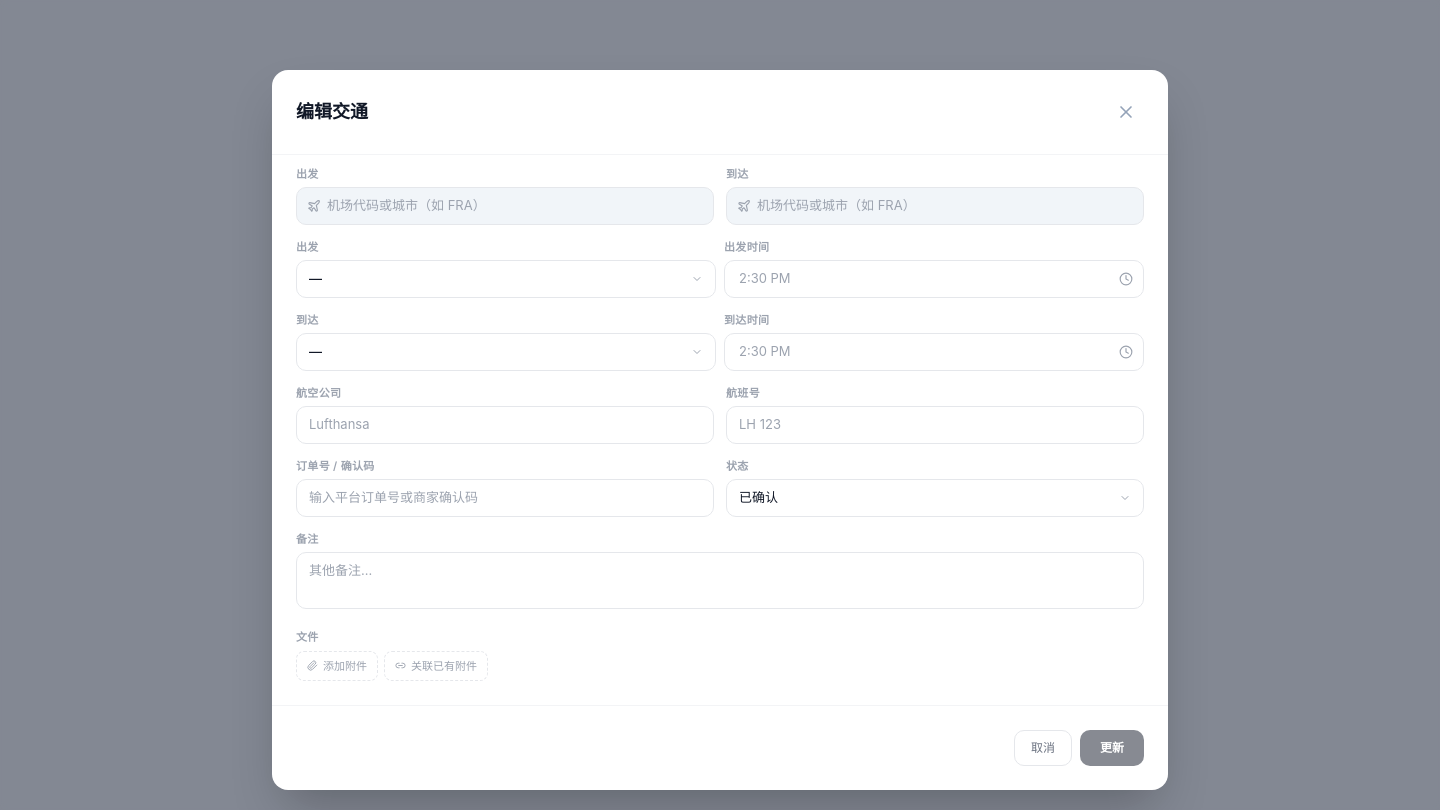
it: TransportModal › FE-PLANNER-TRANSMODAL-020: clicking "link existing file" shows file picker dropdown
(page scrolled)
Click the button "关联已有附件". click: (436, 666)
box: [384,650,488,681]
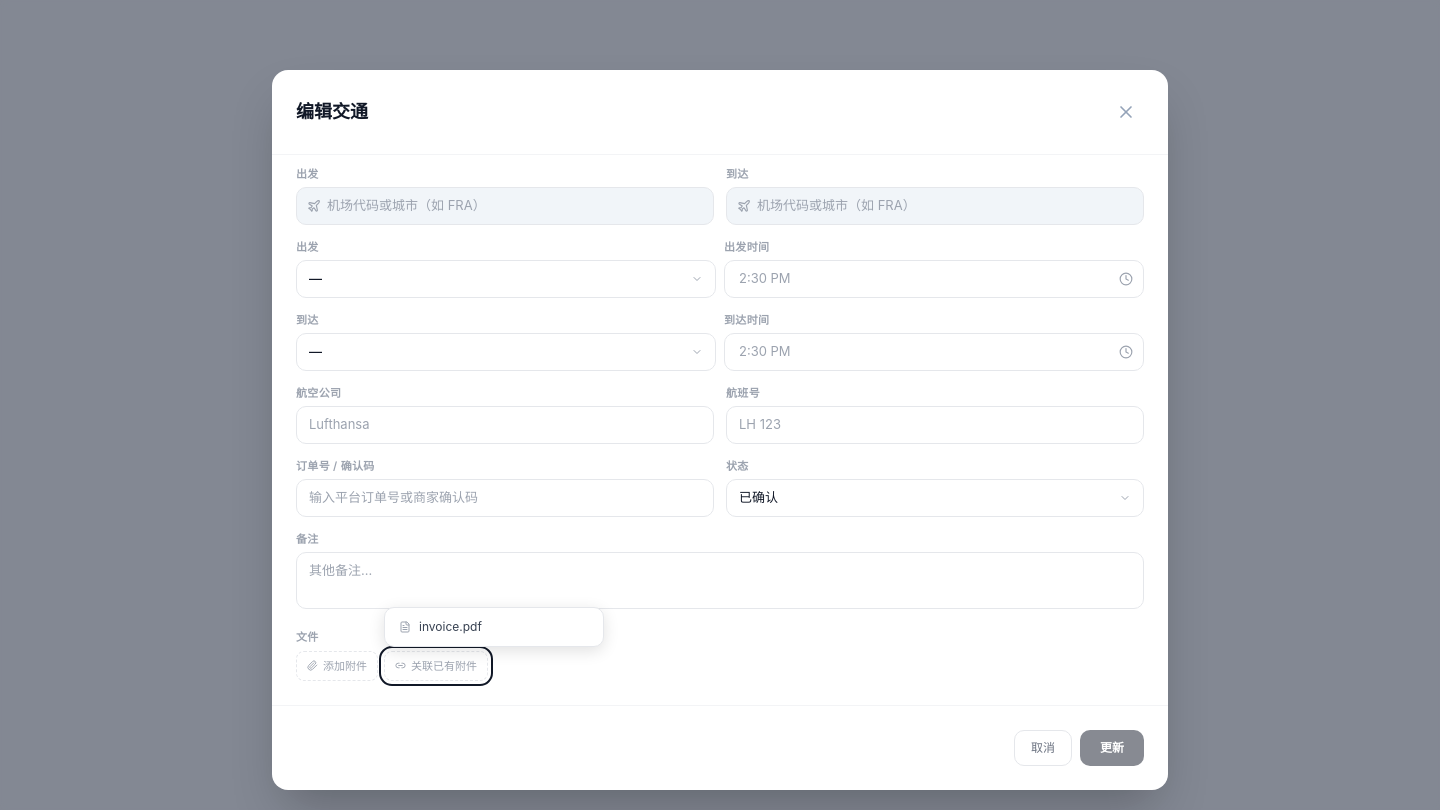
Expected: the text "invoice.pdf" is shown, [419,618,482,636]
